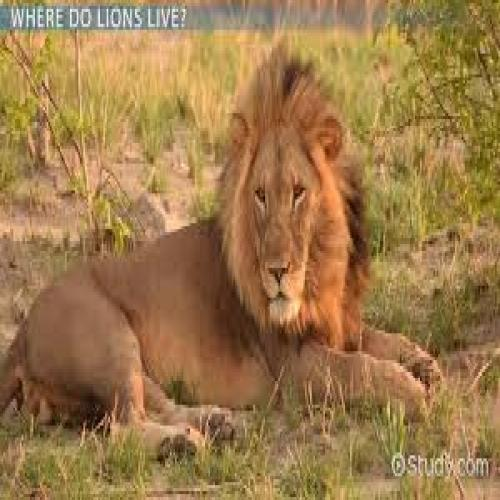lion-endangered: (0, 36, 445, 458)
